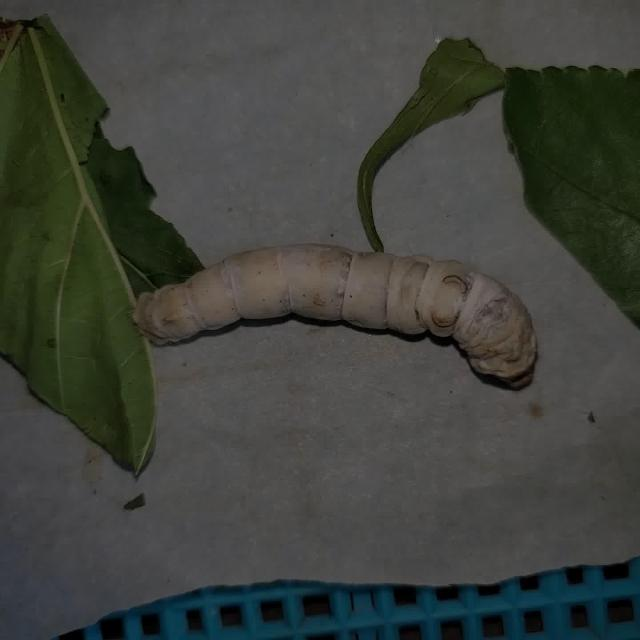Grasserie: (85, 205, 561, 427)
